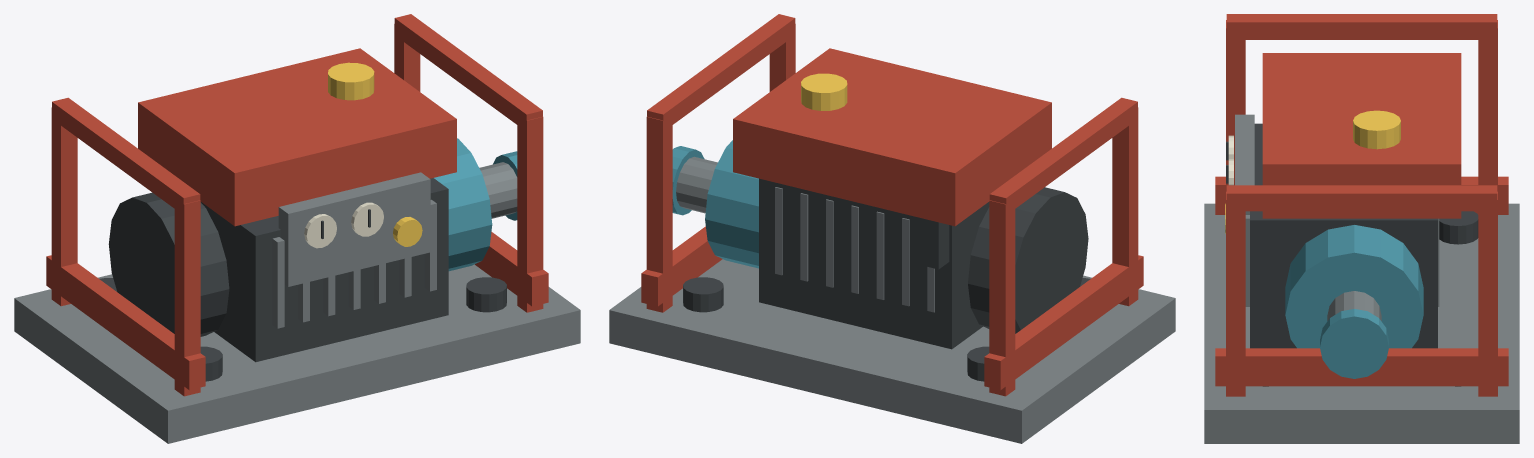
The model's file is Stage2_PumpGenerator.glb.
The picture shows the model from 3 angles, left to right: view 1: azimuth 30°, elevation 25°; view 2: azimuth 150°, elevation 25°; view 3: azimuth 270°, elevation 25°; orthographic projection. The views are drawn at different scales.
Parts seen in each view (by area): view 1: Skid, FuelTank, Engine, Flywheel, ControlPlate, FrameRail, FrameUpright, FrameTop, FrameTop.001, FrameUpright.002, PumpHousing, FrameUpright.001 (+11 smaller); view 2: Skid, FuelTank, Engine, Flywheel, FrameRail, PumpHousing, FrameTop.001, FrameTop, FrameUpright.003, FrameUpright.001, FrameUpright, FrameRail.001 (+13 smaller); view 3: Skid, FuelTank, PumpHousing, Engine, FrameRail.001, FrameTop.001, FrameTop, HoseCoupler, FrameUpright.003, FrameUpright.002, FrameUpright.001, FrameUpright (+6 smaller).
Boxes of the visible parts, x1,y1,x2,y2 form: Skid: (14, 264, 580, 443); FuelTank: (138, 48, 456, 226); Engine: (201, 178, 448, 362); Flywheel: (108, 192, 229, 336); ControlPlate: (278, 172, 430, 286); FrameRail: (46, 255, 205, 390); FrameUpright: (174, 198, 200, 396); FrameTop: (52, 97, 200, 214); FrameTop.001: (394, 14, 542, 131); FrameUpright.002: (517, 114, 543, 312); PumpHousing: (434, 138, 492, 271); FrameUpright.001: (51, 107, 77, 306); Skid: (609, 259, 1175, 443); FuelTank: (733, 48, 1051, 226); Engine: (759, 178, 989, 349); Flywheel: (968, 187, 1088, 333); FrameRail: (984, 255, 1143, 390); PumpHousing: (705, 140, 758, 268); FrameTop.001: (647, 14, 795, 131); FrameTop: (989, 97, 1137, 214); FrameUpright.003: (646, 114, 672, 312); FrameUpright.001: (989, 198, 1015, 396); FrameUpright: (1112, 107, 1138, 306); FrameRail.001: (641, 226, 722, 306); Skid: (1204, 203, 1519, 443); FuelTank: (1262, 53, 1461, 218); PumpHousing: (1285, 225, 1423, 348); Engine: (1250, 123, 1437, 348); FrameRail.001: (1215, 348, 1508, 386); FrameTop.001: (1226, 185, 1497, 211); FrameTop: (1226, 14, 1497, 39); HoseCoupler: (1320, 309, 1388, 378); FrameUpright.003: (1478, 191, 1497, 396); FrameUpright.002: (1226, 191, 1245, 396); FrameUpright.001: (1478, 20, 1497, 185); FrameUpright: (1226, 20, 1245, 184).
Bounding box in the file's own units: 3.38 × 1.84 × 2.1.
